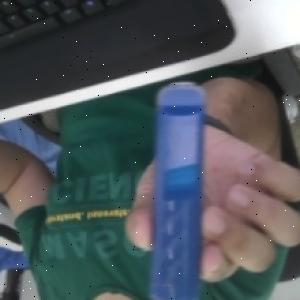Diamond-E-Ciggirate: (150, 80, 209, 300)
